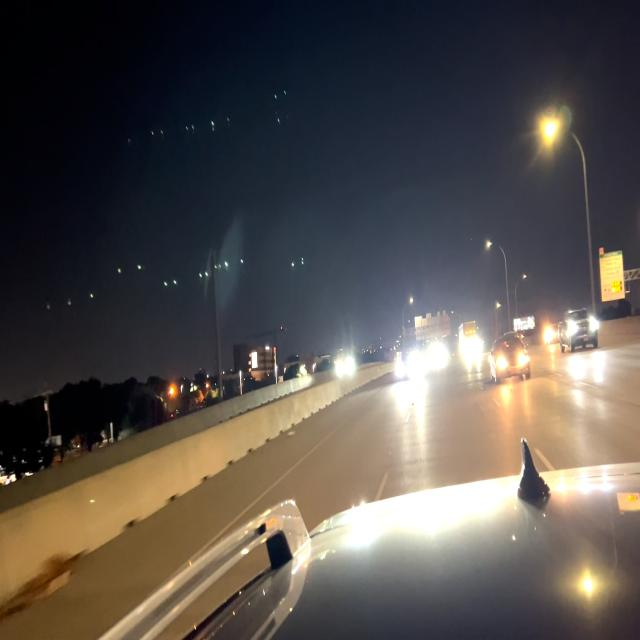back-of-sign: (415, 308, 453, 343)
